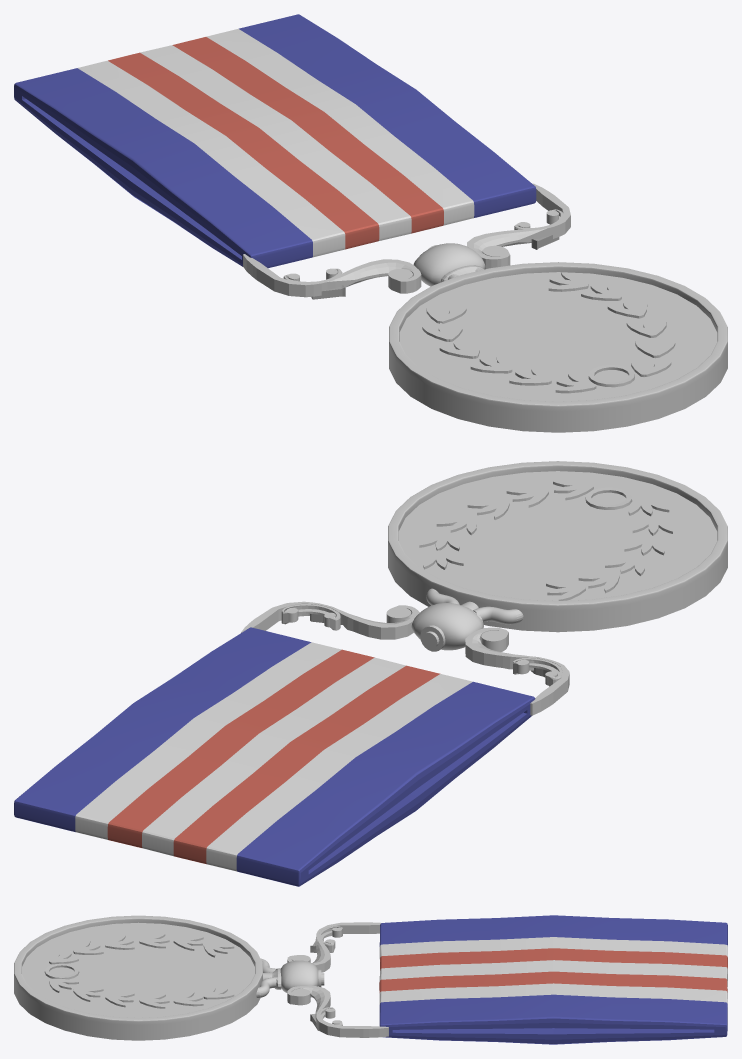
Rendered from Medal420.fbx.
3 views of the same model, one above another, from view 1: azimuth 30°, elevation 25°; view 2: azimuth 150°, elevation 25°; view 3: azimuth 270°, elevation 25° (orthographic). The views are drawn at different scales.
Parts seen in each view (by area): view 1: pCube15; view 2: pCube15; view 3: pCube15.
Part boxes in pixels (x1=…): pCube15: x1=14, y1=14, x2=727, y2=432; pCube15: x1=14, y1=461, x2=727, y2=886; pCube15: x1=14, y1=915, x2=727, y2=1044.
Bounding box in the file's own units: 2.02 × 0.27 × 5.7.
